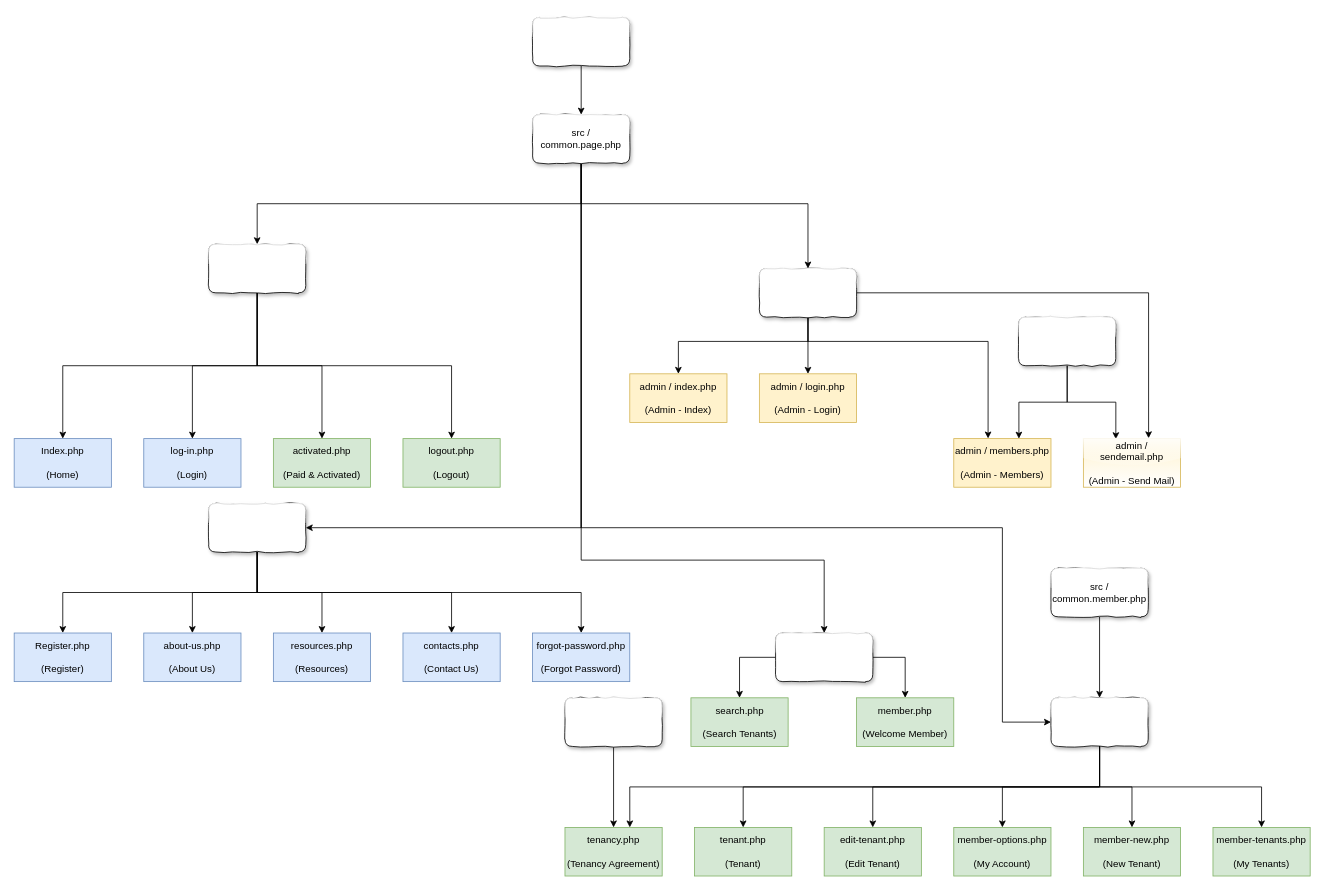
The diagram is 1324 pixels wide and 890 high, and some of its shapes have lost their labels. The centre of each missing label's shape, as x and y in pixels:
"database.driver.php" belongs at (x=582, y=42).
"src / admin.page.php" belongs at (x=808, y=293).
"src / admin_member.php (Admin - Members)" belongs at (x=1068, y=342).
"src / fpdf153 / fpdf.php" belongs at (x=614, y=723).
"src / template1.page.php" belongs at (x=258, y=269).
"src / template2.page.php" belongs at (x=258, y=528).
"src / template3.page.php" belongs at (x=825, y=658).
"src / template4.page.php" belongs at (x=1100, y=723).
